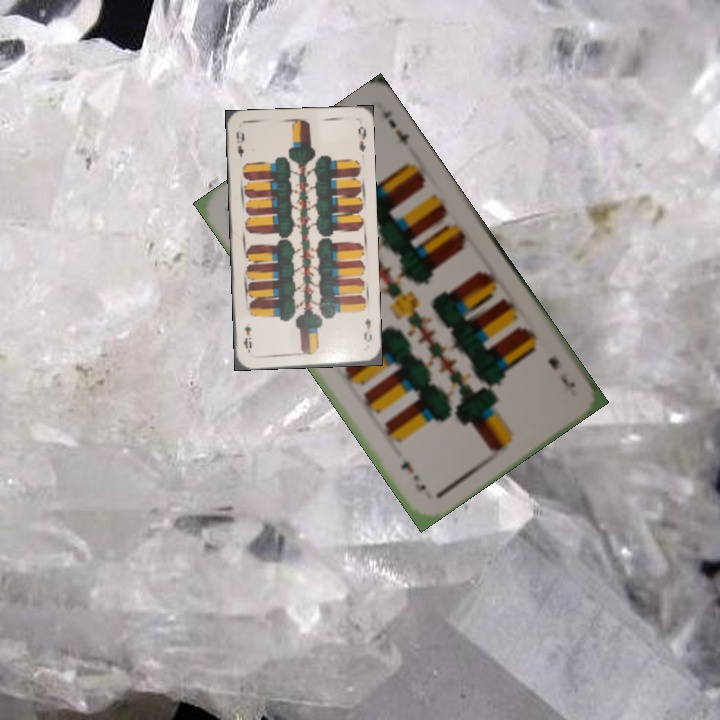E7: (544, 352, 578, 391)
E9: (232, 128, 247, 159), (360, 314, 374, 344)
